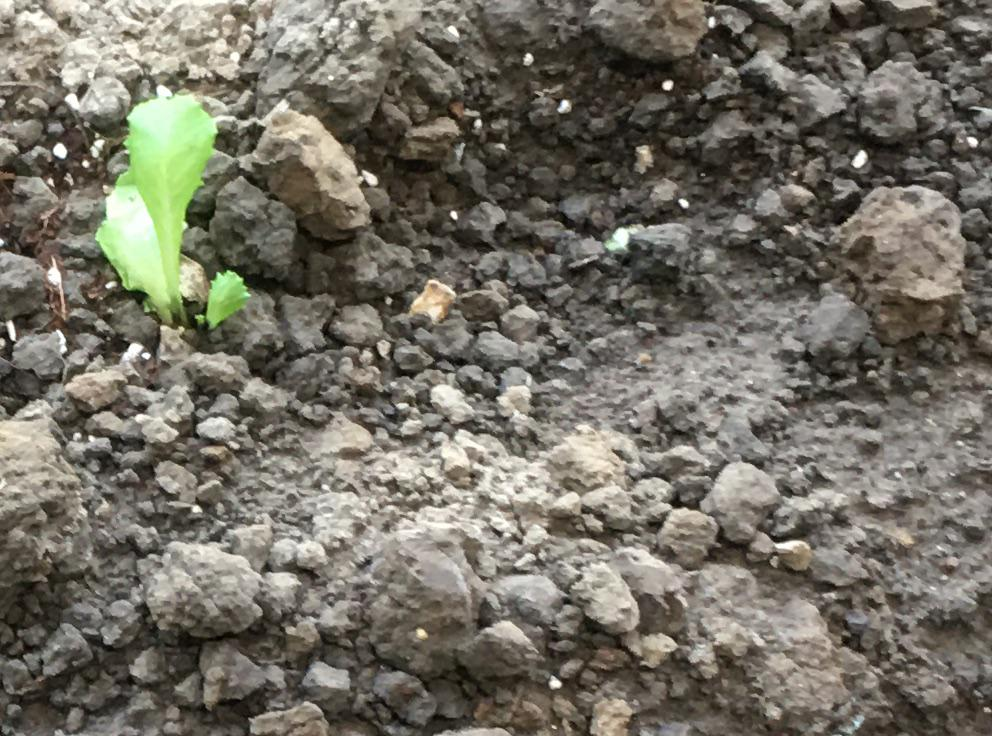block: (834, 180, 964, 342), (250, 107, 372, 242)
